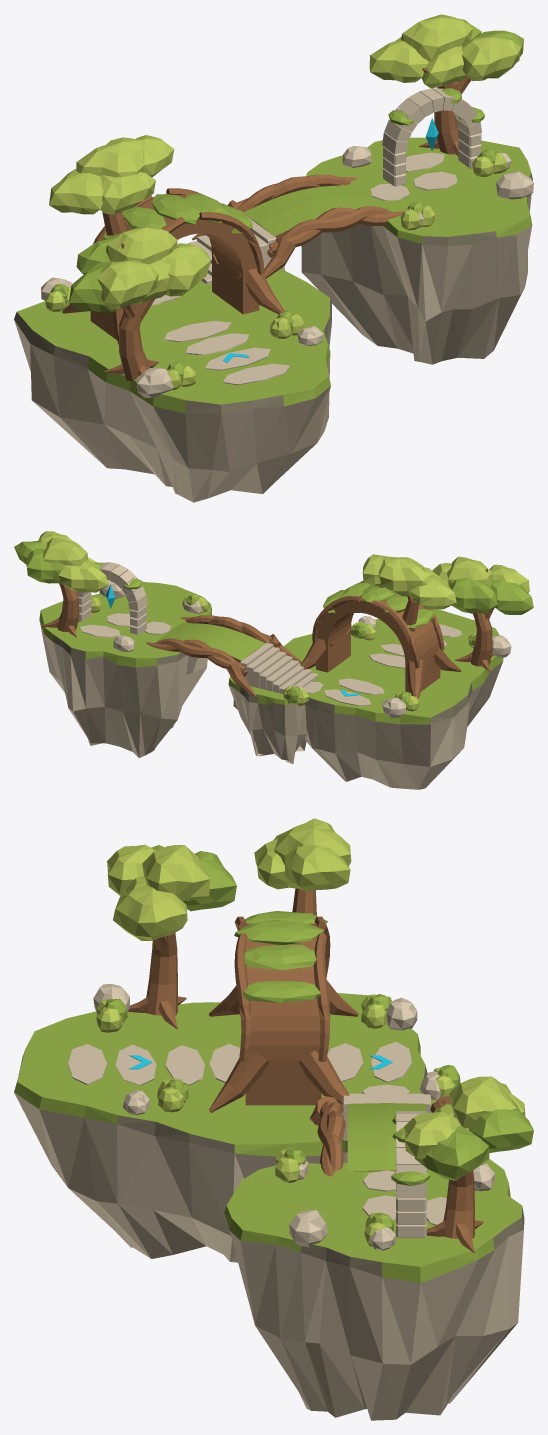
File: woodland.glb
3 renders of one model, top to bottom at view 1: azimuth 30°, elevation 25°; view 2: azimuth 150°, elevation 25°; view 3: azimuth 270°, elevation 25°, orthographic. The views are drawn at different scales.
Parts seen in each view (by area): view 1: WhisperingCanopy_PackedVisual; view 2: WhisperingCanopy_PackedVisual; view 3: WhisperingCanopy_PackedVisual.
Part boxes in pixels (left/top/right/bottom): WhisperingCanopy_PackedVisual: left=14, top=14, right=533, bottom=502; WhisperingCanopy_PackedVisual: left=14, top=531, right=533, bottom=789; WhisperingCanopy_PackedVisual: left=14, top=818, right=533, bottom=1420.
Bounding box in the file's own units: 33.13 × 17.12 × 21.19.
